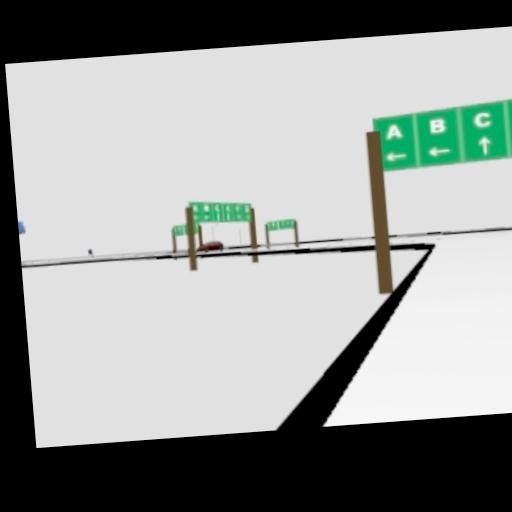A: (385, 123, 403, 140)
B: (428, 118, 447, 135)
C: (472, 111, 493, 129)
Left: (426, 145, 451, 158), (385, 151, 407, 163)
Straight: (477, 135, 492, 157)
